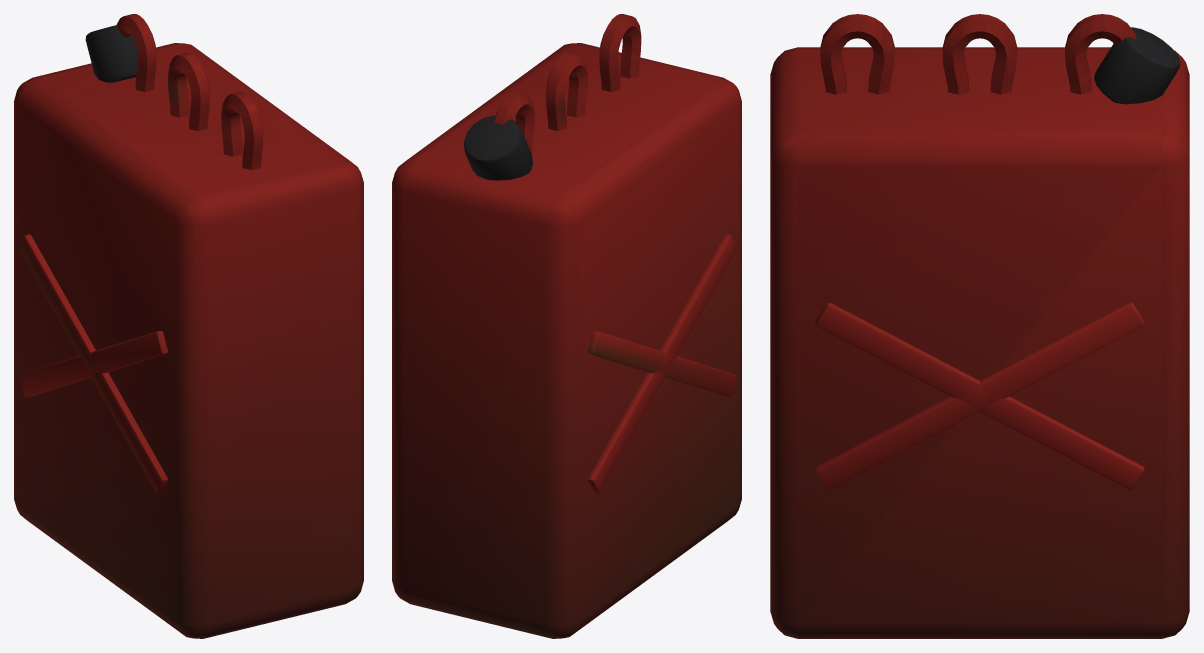
File: GasCan.glb
3 views of the same model, side by side, from view 1: azimuth 30°, elevation 25°; view 2: azimuth 150°, elevation 25°; view 3: azimuth 270°, elevation 25° (orthographic). The views are drawn at different scales.
Visible parts, largest first — view 1: GasCan_paint_red, GasCan_metal_dark; view 2: GasCan_paint_red, GasCan_metal_dark; view 3: GasCan_paint_red, GasCan_metal_dark.
Part boxes in pixels (x1,y1,x2,y2): GasCan_paint_red: [14, 14, 363, 638]; GasCan_metal_dark: [85, 25, 137, 82]; GasCan_paint_red: [392, 14, 741, 638]; GasCan_metal_dark: [463, 115, 532, 180]; GasCan_paint_red: [770, 14, 1189, 638]; GasCan_metal_dark: [1094, 27, 1180, 104].
Size of the model in its own units: 0.75 by 1.83 by 1.2.
